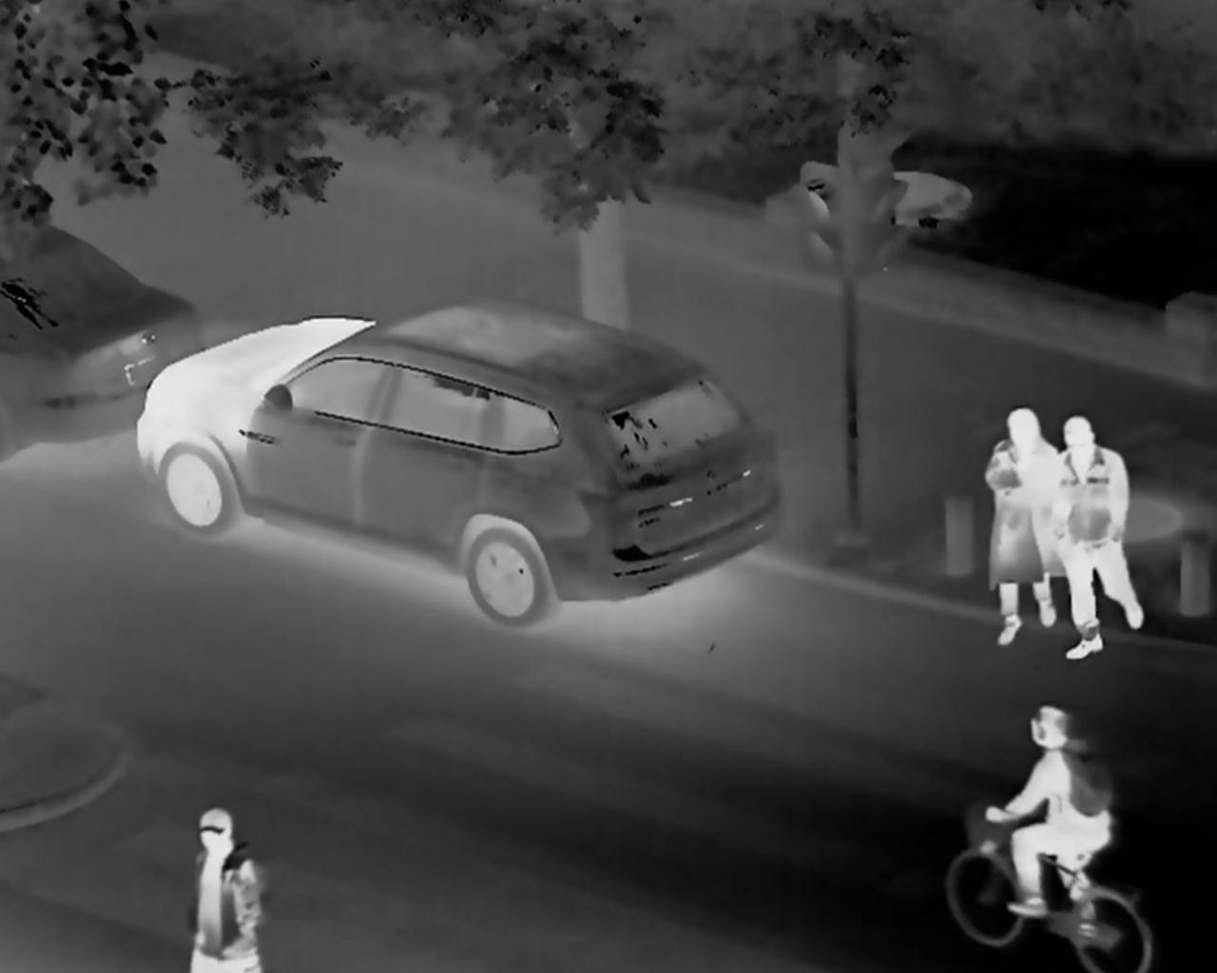person: (1000, 709, 1109, 942), (1051, 411, 1144, 670), (179, 803, 291, 973), (991, 391, 1043, 649)
